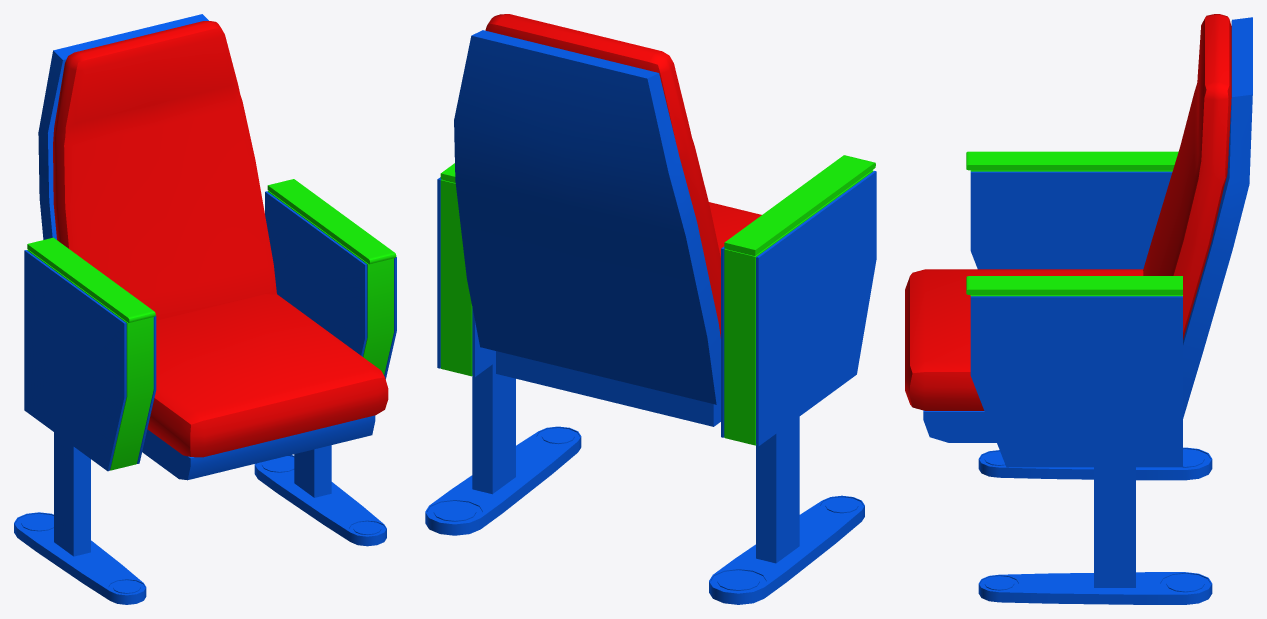
Rendered from hospital_fnt_butaca1.fbx.
The picture shows the model from 3 angles, left to right: view 1: azimuth 30°, elevation 25°; view 2: azimuth 150°, elevation 25°; view 3: azimuth 270°, elevation 25°; orthographic projection. The views are drawn at different scales.
Parts seen in each view (by area): view 1: hospital_fnt_butaca1; view 2: hospital_fnt_butaca1; view 3: hospital_fnt_butaca1.
Part boxes in pixels (x1=…): hospital_fnt_butaca1: x1=14, y1=14, x2=396, y2=604; hospital_fnt_butaca1: x1=425, y1=14, x2=876, y2=604; hospital_fnt_butaca1: x1=905, y1=14, x2=1252, y2=604.
Size of the model in its own units: 66.07 by 101 by 65.93.
